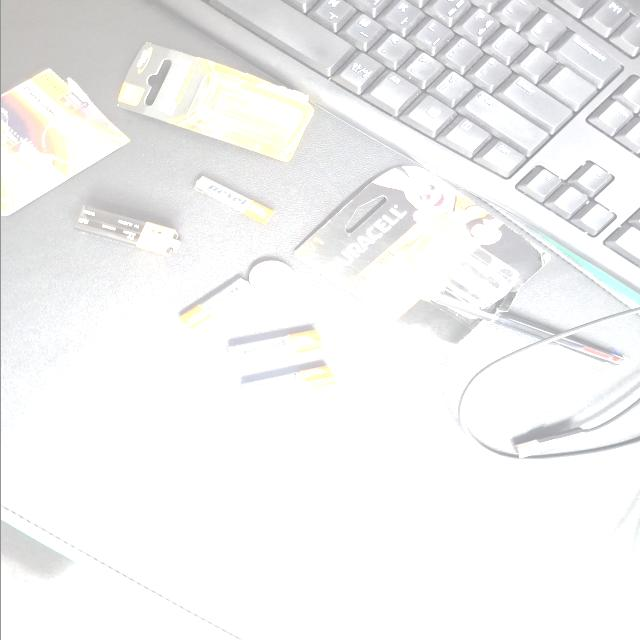9V: (60, 348, 129, 424)
AA: (272, 228, 324, 302), (226, 238, 272, 310)
AAA: (20, 274, 87, 334), (163, 290, 227, 343)
COIN: (132, 259, 182, 295)
